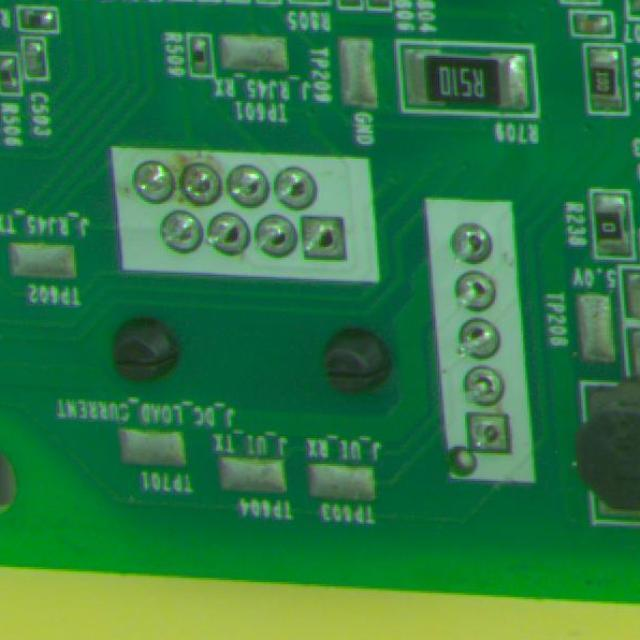Insufficient solder: (466, 404, 522, 456), (448, 272, 509, 314), (458, 314, 512, 358), (233, 154, 272, 212), (460, 362, 510, 406), (448, 223, 493, 270), (203, 214, 247, 256), (258, 214, 298, 258), (179, 163, 217, 206), (303, 221, 345, 258), (284, 166, 322, 202)
